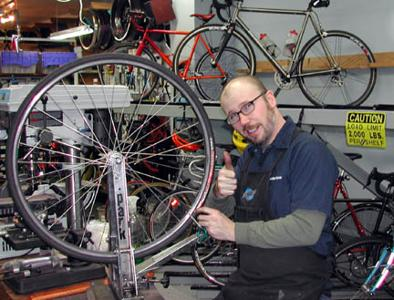person: (190, 75, 341, 299)
